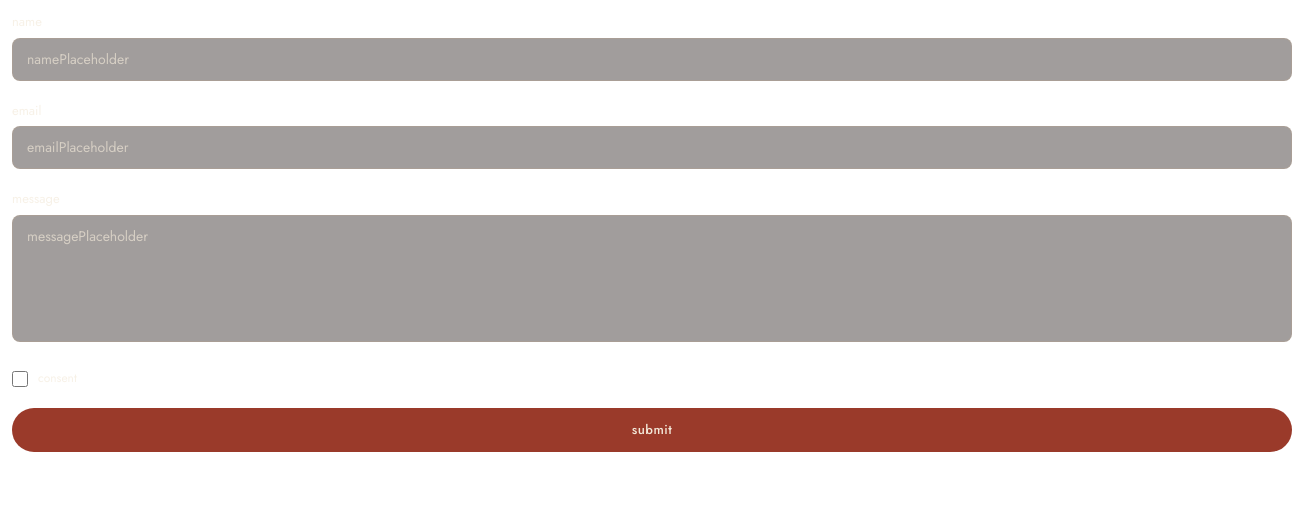
ContactForm › shows success message after successful submit
Type "John" into the field with placeholder "namePlaceholder" at (652, 59), box [12, 38, 1292, 80]
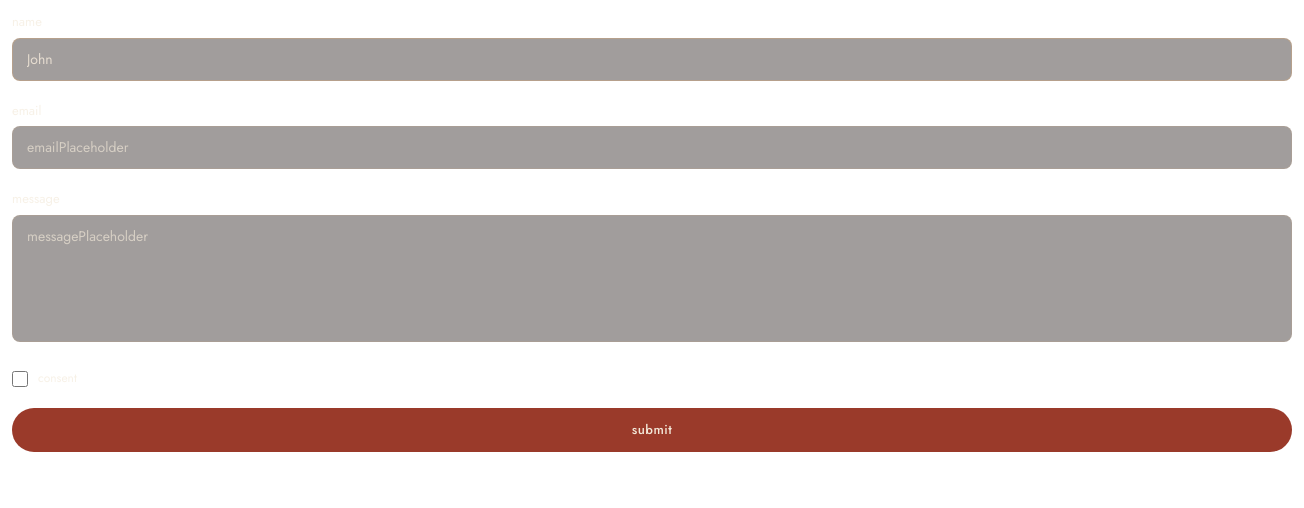
Type "john@test.com" into the field with placeholder "emailPlaceholder" at (652, 148), box [12, 126, 1292, 169]
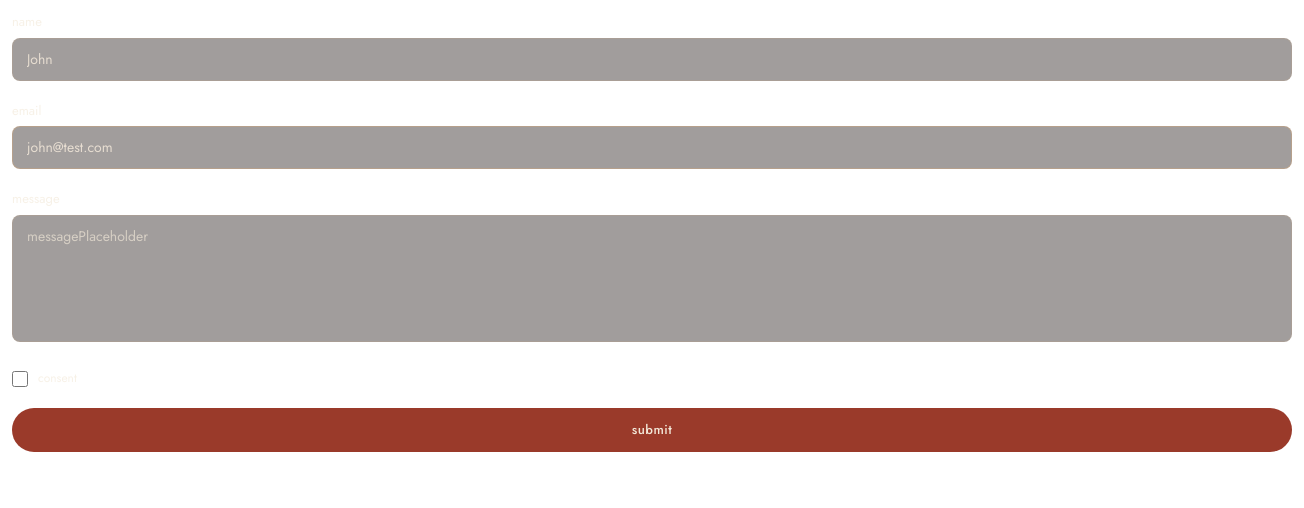
Type "Hello" into the text box with placeholder "messagePlaceholder" at (652, 278), box [12, 214, 1292, 342]
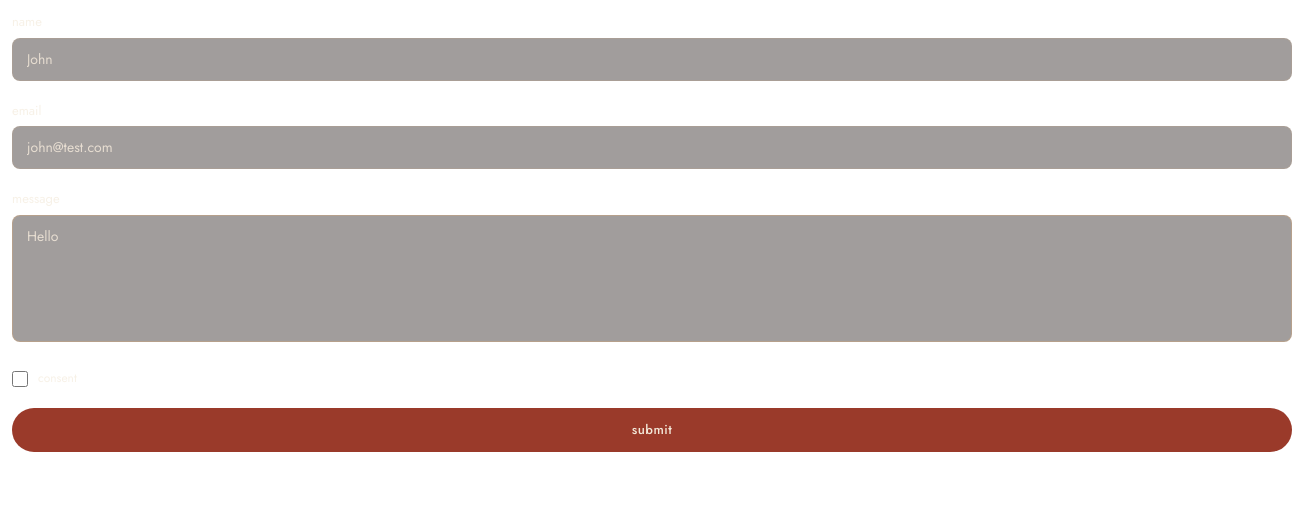
Click the checkbox at (20, 378), box [12, 370, 28, 386]
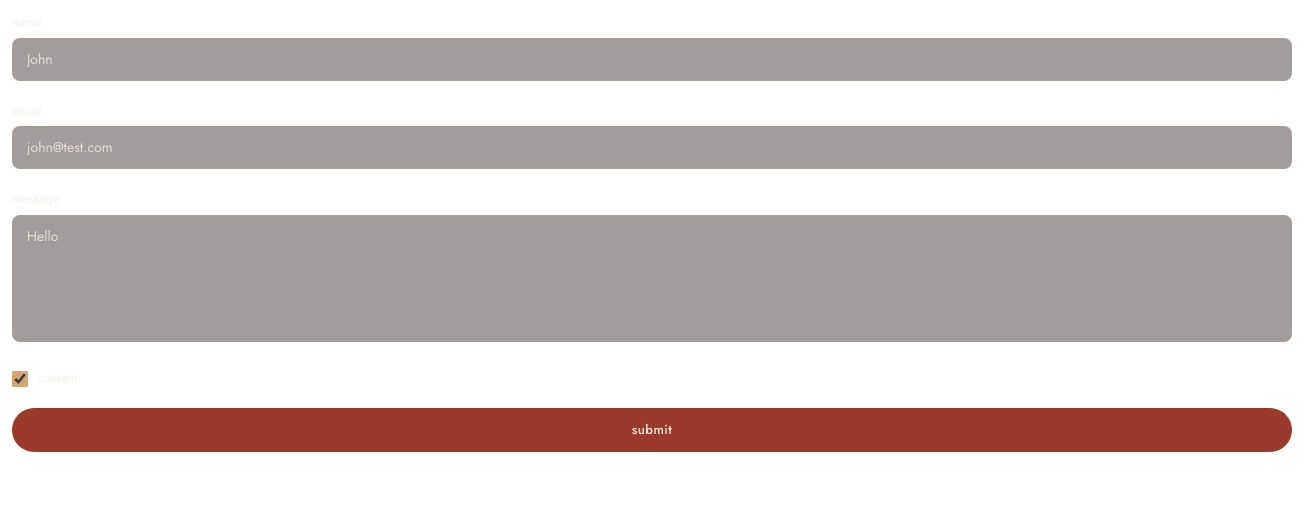
Click the button "submit" at (652, 430), box [12, 408, 1292, 452]
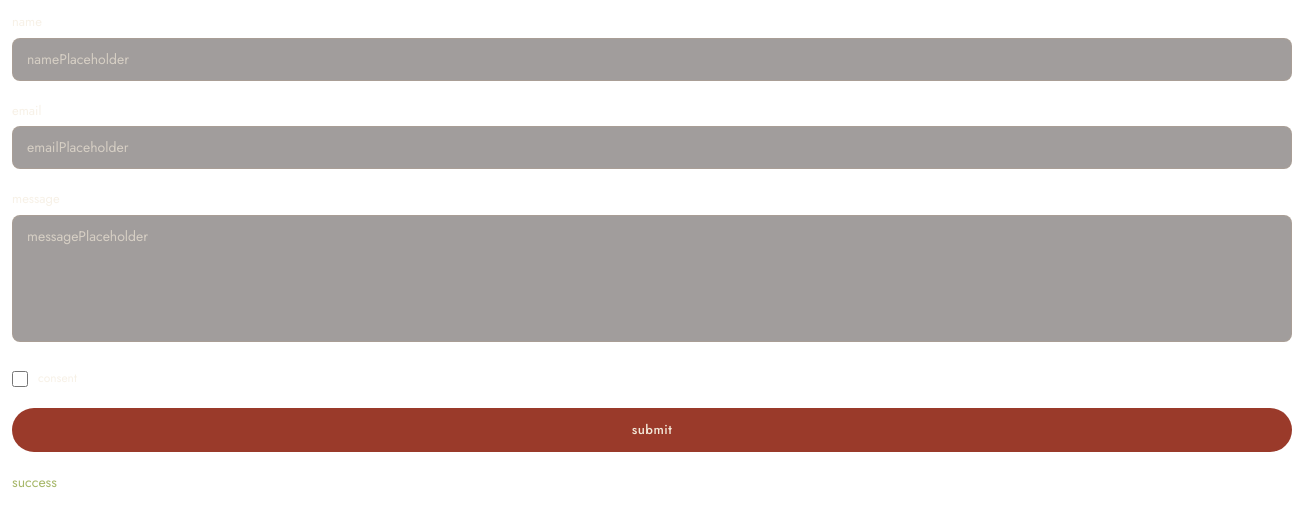
Expected: the text "success" is shown, [12, 472, 57, 492]
